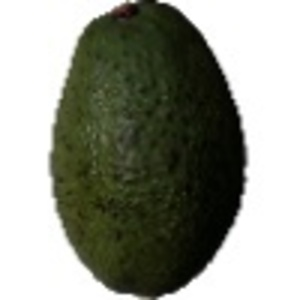abacate: (49, 1, 252, 299)
